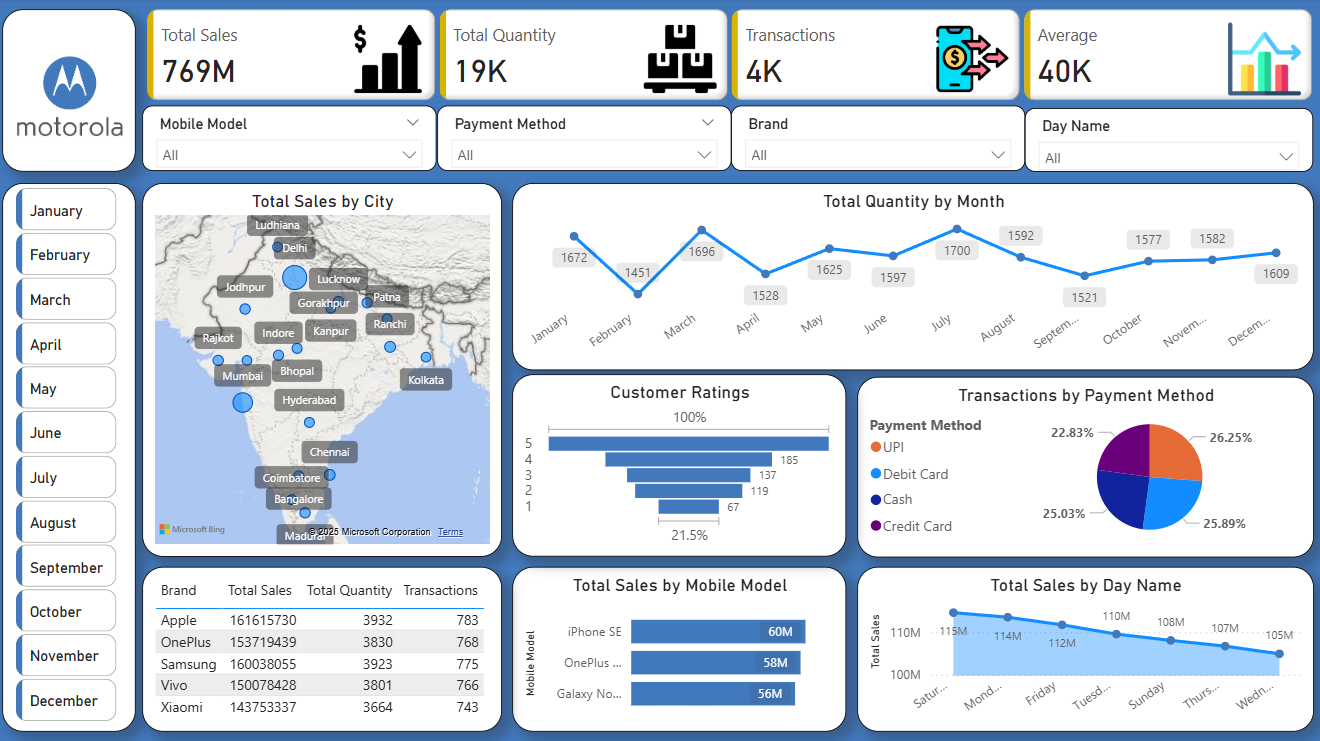

The dashboard page shown, as its layout file describes it:
{"tool":"powerbi","page":{"name":"Page 1","canvas":[1280,720],"ordinal":0},"visuals":[{"type":"shape","box":[5.5,11,129,156.4],"z":0},{"type":"image","box":[15.1,11,111.1,167.4],"z":1000},{"type":"shape","box":[5.5,178.4,129,529.7],"z":2000},{"type":"advancedSlicerVisual","fields":{"Values":["Sales_Data.Date.Variation.Date Hierarchy.Month"]},"box":[14.5,178.6,107.4,529.6],"z":3000},{"type":"cardVisual","fields":{"Data":["Sales_Data.Total Sales","Sales_Data.Total Quantity","Sales_Data.Transactions","Sales_Data.Average"]},"box":[141.3,11,1134.8,93.3],"z":4000},{"type":"map","fields":{"Size":["Sales_Data.Total Sales"],"Category":["Sales_Data.City"]},"box":[141.3,178.4,347.2,360.9],"z":5000},{"type":"lineChart","fields":{"Category":["Sales_Data.Date.Variation.Date Hierarchy.Month","Sales_Data.Date.Variation.Date Hierarchy.Day"],"Y":["Sales_Data.Total Quantity"]},"box":[498.1,178.4,773.9,181.1],"z":6000},{"type":"clusteredBarChart","fields":{"Category":["Sales_Data.Mobile Model"],"Y":["Sales_Data.Total Sales"]},"box":[498.1,548.9,322.5,159.2],"z":7000},{"type":"pieChart","fields":{"Category":["Sales_Data.Payment Method"],"Y":["Sales_Data.Transactions"]},"box":[831.6,365,440.5,174.3],"z":8000},{"type":"funnel","title":"Customer Ratings","fields":{"Category":["Sales_Data.Customer Ratings"],"Y":["CountNonNull(Sales_Data.Customer Ratings)"]},"box":[498.1,363.6,322.5,175.6],"z":9000},{"type":"areaChart","fields":{"Category":["Sales_Data.Day Name"],"Y":["Sales_Data.Total Sales"]},"box":[831.6,548.9,440.5,159.2],"z":10000},{"type":"tableEx","fields":{"Values":["Sales_Data.Brand","Sales_Data.Total Sales","Sales_Data.Total Quantity","Sales_Data.Transactions"]},"box":[141.3,548.9,347.2,159.2],"z":11000},{"type":"slicer","fields":{"Values":["Sales_Data.Mobile Model"]},"box":[141.3,104.3,284,63.1],"z":12000},{"type":"slicer","fields":{"Values":["Sales_Data.Payment Method"]},"box":[425.4,104.3,284,63.1],"z":12001},{"type":"slicer","fields":{"Values":["Sales_Data.Brand"]},"box":[709.4,104.3,284,63.1],"z":12002},{"type":"slicer","fields":{"Values":["Sales_Data.Day Name"]},"box":[992.9,106.2,278.7,61.5],"z":12003}]}

Visuals, with their boxes in screenshot pixels (x1, y1, x2, y2), scaled from the page's 1280x720 canvas onto the 1320x741 screenshot:
shape: BBox(6, 11, 139, 172)
image: BBox(16, 11, 130, 184)
shape: BBox(6, 184, 139, 729)
advancedSlicerVisual - Sales_Data.Date.Variation.Date Hierarchy.Month: BBox(15, 184, 126, 729)
cardVisual - Sales_Data.Total Sales x Sales_Data.Total Quantity: BBox(146, 11, 1316, 107)
map - Sales_Data.Total Sales x Sales_Data.City: BBox(146, 184, 504, 555)
lineChart - Sales_Data.Date.Variation.Date Hierarchy.Month x Sales_Data.Date.Variation.Date Hierarchy.Day: BBox(514, 184, 1312, 370)
clusteredBarChart - Sales_Data.Mobile Model x Sales_Data.Total Sales: BBox(514, 565, 846, 729)
pieChart - Sales_Data.Payment Method x Sales_Data.Transactions: BBox(858, 376, 1312, 555)
"Customer Ratings" funnel: BBox(514, 374, 846, 555)
areaChart - Sales_Data.Day Name x Sales_Data.Total Sales: BBox(858, 565, 1312, 729)
tableEx - Sales_Data.Brand x Sales_Data.Total Sales: BBox(146, 565, 504, 729)
slicer - Sales_Data.Mobile Model: BBox(146, 107, 439, 172)
slicer - Sales_Data.Payment Method: BBox(439, 107, 732, 172)
slicer - Sales_Data.Brand: BBox(732, 107, 1024, 172)
slicer - Sales_Data.Day Name: BBox(1024, 109, 1311, 173)
